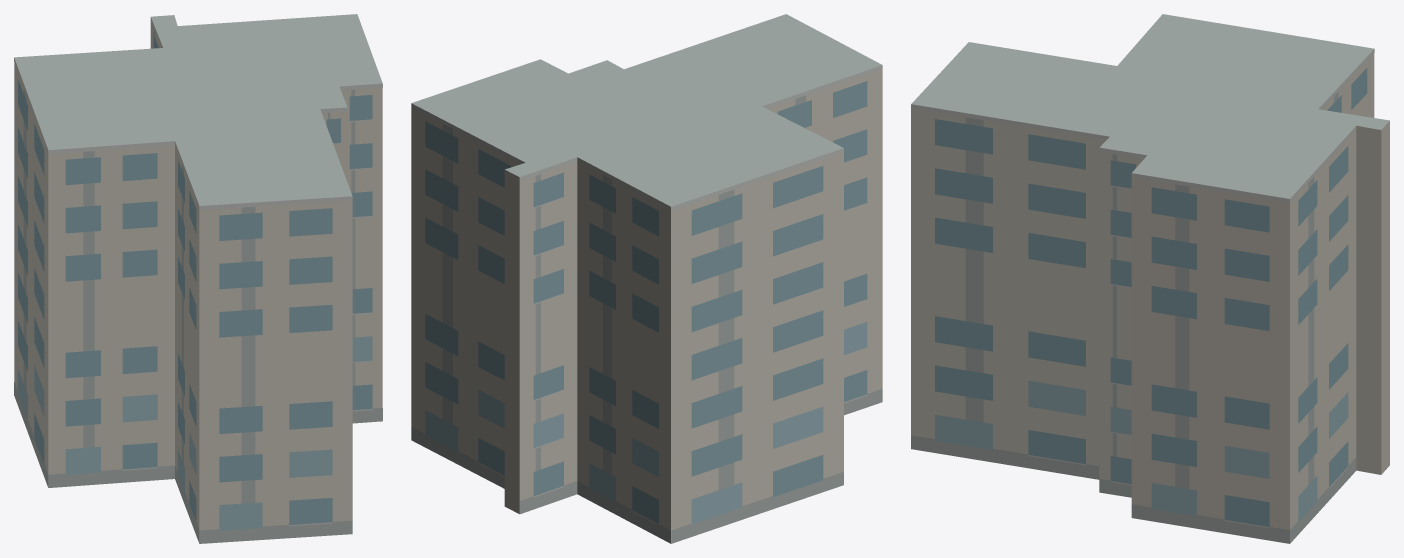
File: survey-upis-32873589.glb
3 renders of one model, left to right at view 1: azimuth 30°, elevation 25°; view 2: azimuth 150°, elevation 25°; view 3: azimuth 270°, elevation 25°, orthographic. The views are drawn at different scales.
Visible parts, largest first — view 1: survey-upis-32873589.tmp; view 2: survey-upis-32873589.tmp; view 3: survey-upis-32873589.tmp.
Boxes of the visible parts, <box> form: survey-upis-32873589.tmp: <box>14,14,382,543</box>; survey-upis-32873589.tmp: <box>411,14,882,543</box>; survey-upis-32873589.tmp: <box>911,14,1389,543</box>.
Size of the model in its own units: 23.01 by 20 by 25.17.
